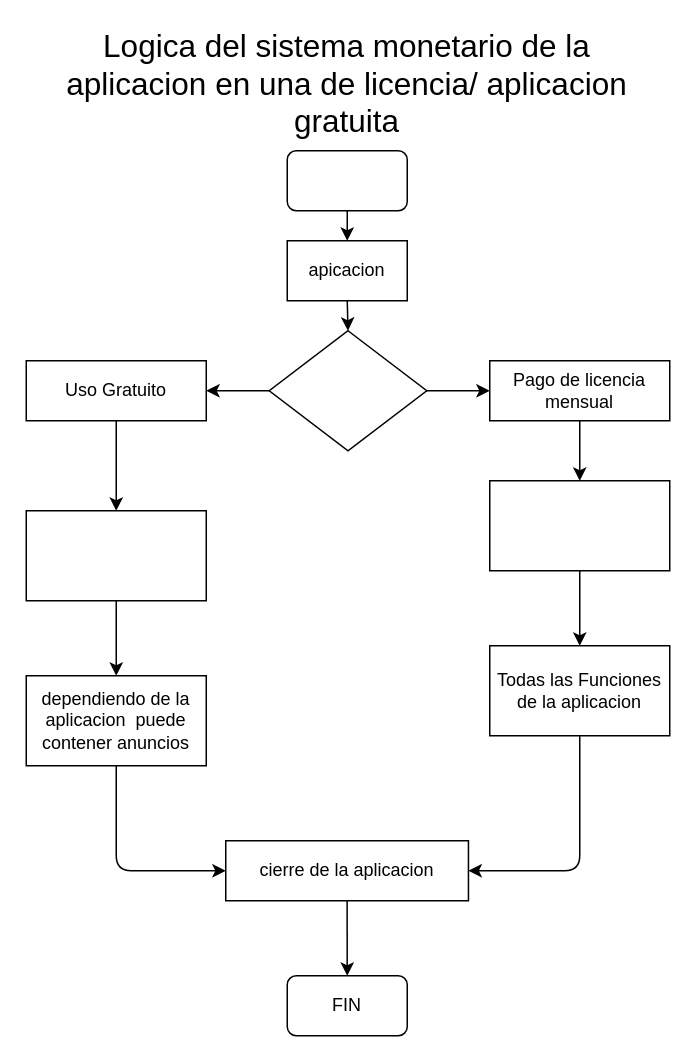
The diagram is 696 pixels wide and 1062 high, and some of its shapes have lost their labels. Here are the shapes that lost their labels. From the top down, the centre of each, then its label:
At pixel 346 180: "INICIO".
At pixel 347 390: "Tipo de Licencia".
At pixel 579 525: "Verificacion de compra".
At pixel 115 555: "funciones basicas de la aplicacion".
